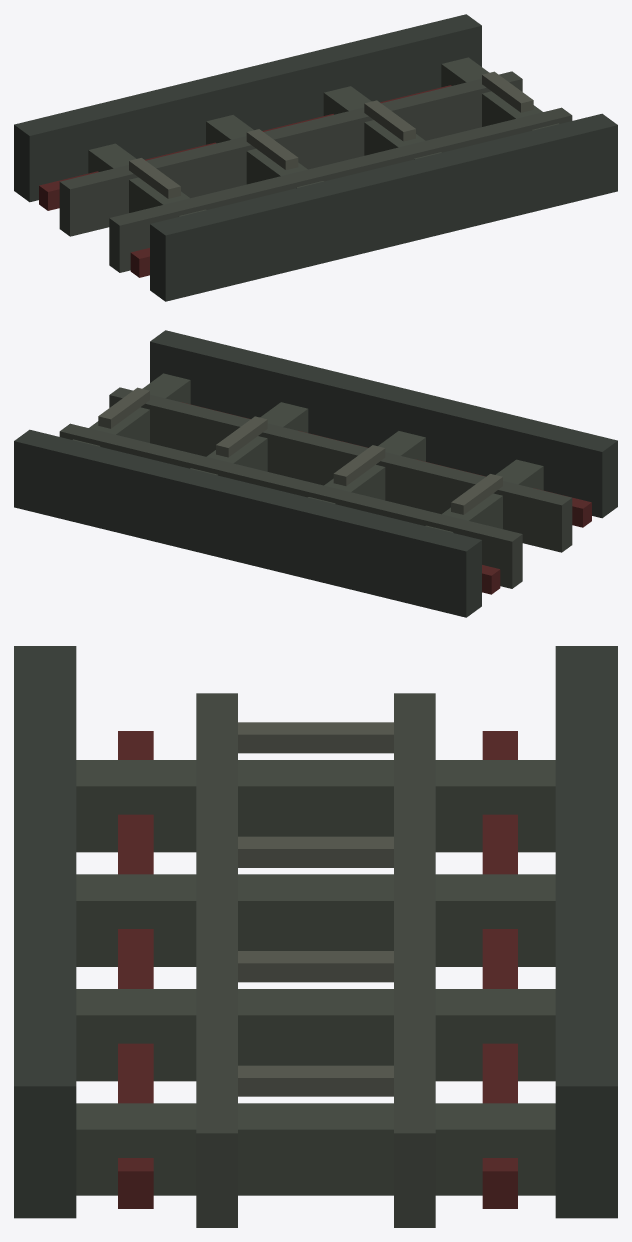
Rendered from CMU3DOverheadLatticeHorizontal6C.glb.
The picture shows the model from 3 angles, top to bottom: view 1: azimuth 30°, elevation 25°; view 2: azimuth 150°, elevation 25°; view 3: azimuth 270°, elevation 25°; orthographic projection. The views are drawn at different scales.
Visible parts, largest first — view 1: outer lattice chord (×2), central cable-tray rail (×2), cross strut (×4), tray tie (×4), red utility pipe (×2); view 2: outer lattice chord (×2), central cable-tray rail (×2), cross strut (×4), tray tie (×4), red utility pipe (×2); view 3: cross strut (×4), outer lattice chord (×2), central cable-tray rail (×2), tray tie (×4), red utility pipe (×2).
Part boxes in pixels (box(x1,y1,x2,y2)): outer lattice chord (×2): box(14, 14, 617, 301); central cable-tray rail (×2): box(59, 71, 572, 272); cross strut (×4): box(88, 57, 558, 216); tray tie (×4): box(129, 71, 533, 198); red utility pipe (×2): box(39, 85, 451, 277); outer lattice chord (×2): box(14, 330, 617, 617); central cable-tray rail (×2): box(59, 387, 572, 588); cross strut (×4): box(73, 373, 543, 532); tray tie (×4): box(98, 387, 502, 514); red utility pipe (×2): box(182, 402, 591, 594); cross strut (×4): box(76, 760, 555, 1195); outer lattice chord (×2): box(14, 646, 617, 1218); central cable-tray rail (×2): box(196, 693, 435, 1227); tray tie (×4): box(238, 722, 393, 1096); red utility pipe (×2): box(118, 731, 517, 1208).
Bounding box in the file's own units: 1 × 0.15 × 0.58.
